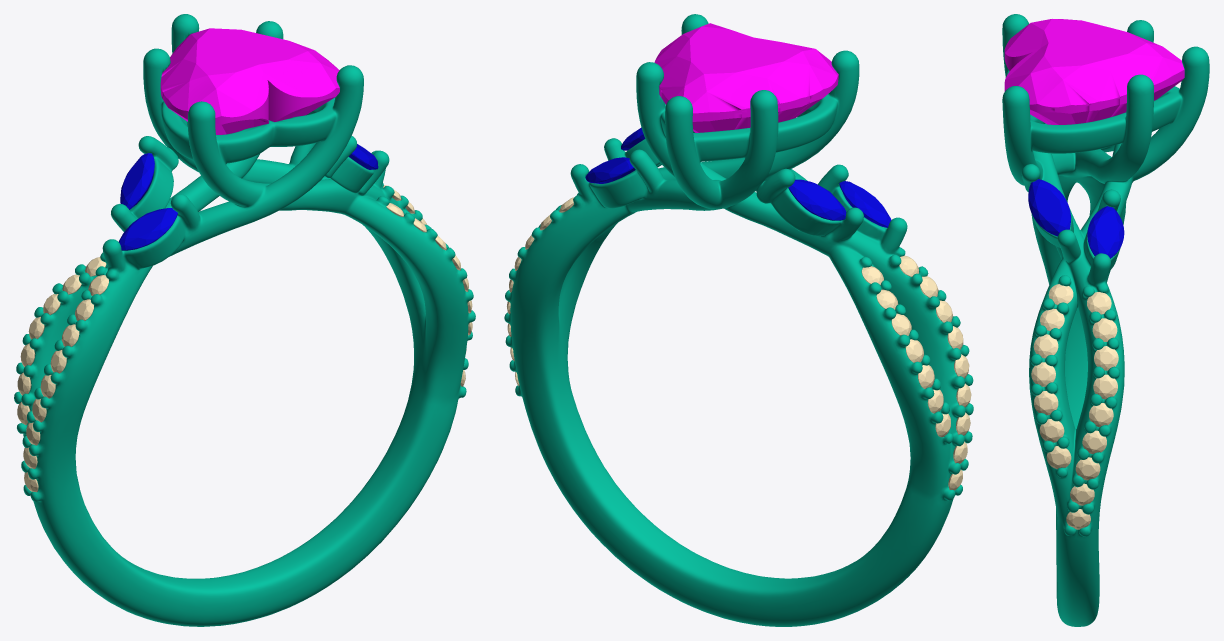
File: BE104B_HT_200ct_RENDER.glb
3 renders of one model, left to right at view 1: azimuth 30°, elevation 25°; view 2: azimuth 150°, elevation 25°; view 3: azimuth 270°, elevation 25°, orthographic.
Parts seen in each view (by area): view 1: Metal 01, CS_Diamond_Heart, Diamond_Marquise_side.001, Diamond_Marquise_side.003; view 2: Metal 01, CS_Diamond_Heart, Diamond_Marquise_side.003, Diamond_Marquise_side.001, Diamond_Marquise_side; view 3: Metal 01, CS_Diamond_Heart, Diamond_Marquise_side.002, Diamond_Marquise_side, Diamond_Round_Gem_SH.013, Diamond_Round_Gem_SH.010, Diamond_Round_Gem_SH.011, Diamond_Round_Gem_SH.012, Diamond_Round_Gem_SH.005, Diamond_Round_Gem_SH.006, Diamond_Round_Gem_SH.009, Diamond_Round_Gem_SH.004 (+8 smaller).
Boxes of the visible parts, x1,y1,x2,y2 form: Metal 01: (14,14,475,626); CS_Diamond_Heart: (160,28,339,134); Diamond_Marquise_side.001: (118,208,177,250); Diamond_Marquise_side.003: (120,153,154,209); Metal 01: (504,14,973,626); CS_Diamond_Heart: (654,23,838,132); Diamond_Marquise_side.003: (788,179,846,220); Diamond_Marquise_side.001: (839,181,891,227); Diamond_Marquise_side: (585,157,635,183); Metal 01: (1002,14,1209,626); CS_Diamond_Heart: (1004,19,1184,124); Diamond_Marquise_side.002: (1028,179,1070,236); Diamond_Marquise_side: (1087,206,1124,258); Diamond_Round_Gem_SH.013: (1031,362,1055,386); Diamond_Round_Gem_SH.010: (1034,391,1058,415); Diamond_Round_Gem_SH.011: (1093,374,1117,399); Diamond_Round_Gem_SH.012: (1094,346,1118,370); Diamond_Round_Gem_SH.005: (1089,403,1113,427); Diamond_Round_Gem_SH.006: (1092,318,1117,341); Diamond_Round_Gem_SH.009: (1039,419,1064,442); Diamond_Round_Gem_SH.004: (1082,430,1106,453).
Bounding box in the file's own units: 20.64 × 25.06 × 8.4.
